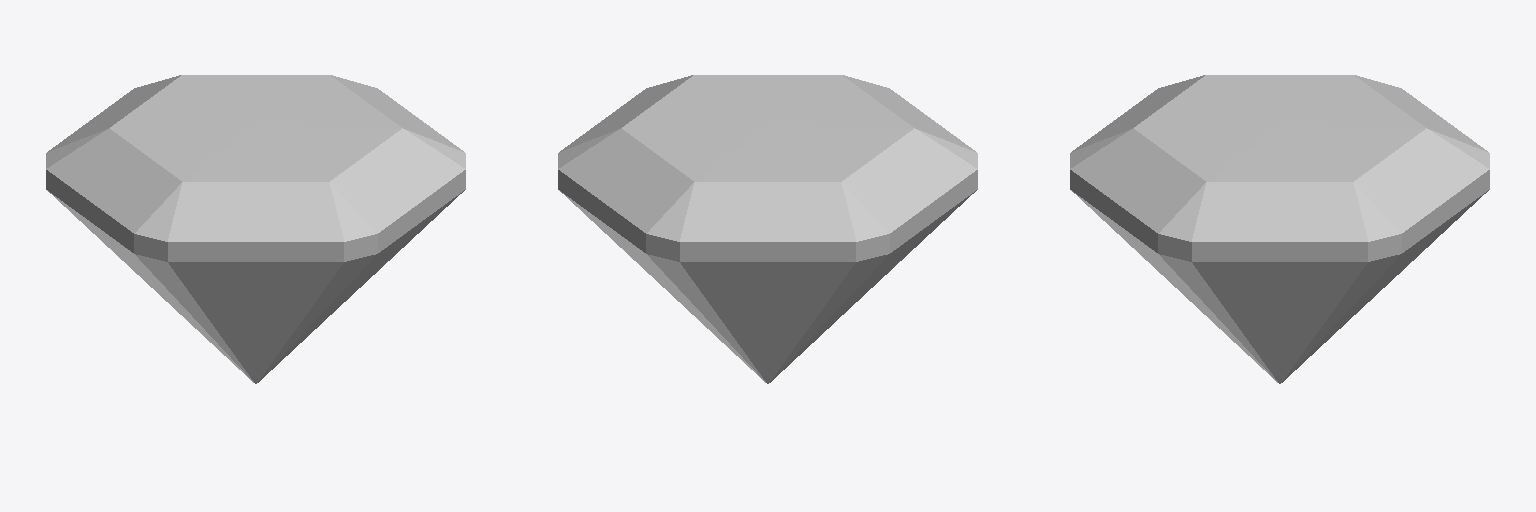
The model's file is 6-old-single-cut.obj.
3 renders of one model, left to right at view 1: azimuth 30°, elevation 25°; view 2: azimuth 150°, elevation 25°; view 3: azimuth 270°, elevation 25°, orthographic.
Visible parts, largest first — view 1: gem_Cylinder; view 2: gem_Cylinder; view 3: gem_Cylinder.
Boxes of the visible parts, x1,y1,x2,y2 form: gem_Cylinder: [46, 75, 465, 383]; gem_Cylinder: [558, 75, 977, 383]; gem_Cylinder: [1070, 75, 1489, 383].
Size of the model in its own units: 17.32 by 12.86 by 19.